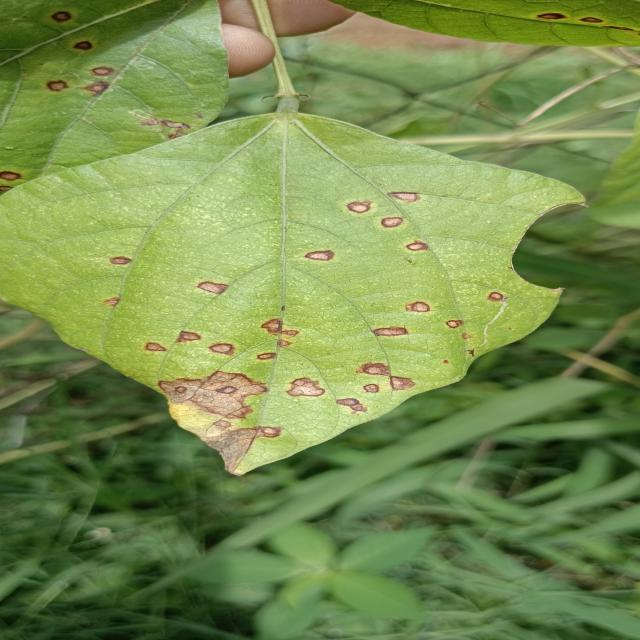Dolicos bean_cercospora leaf spot: (0, 120, 579, 473)
